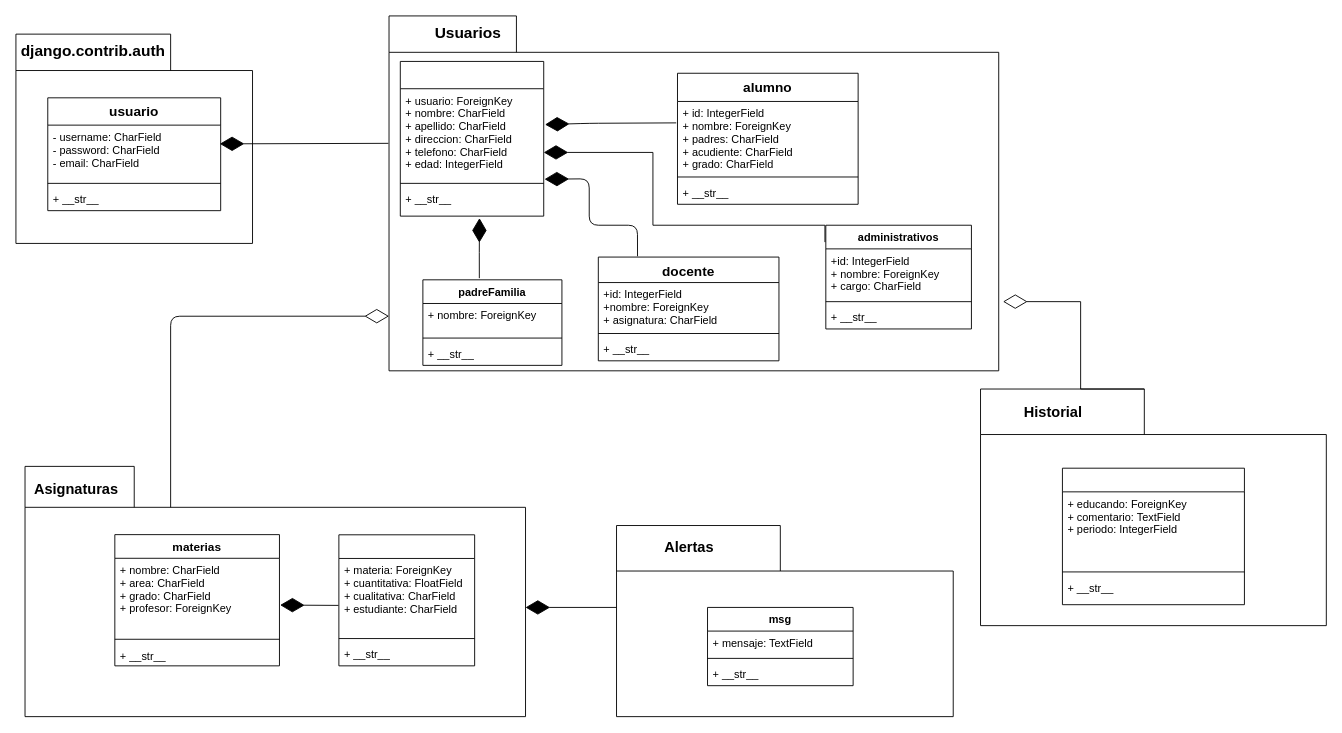
This 1342x733 diagram has some shape labels left out. The shapes that lost their labels are listed below. From the top down, each one's box as (x1, y1, x2, y2) in pixels, then its label:
(399, 61, 544, 216): perfil
(1062, 467, 1244, 605): observador
(338, 534, 475, 666): notas
